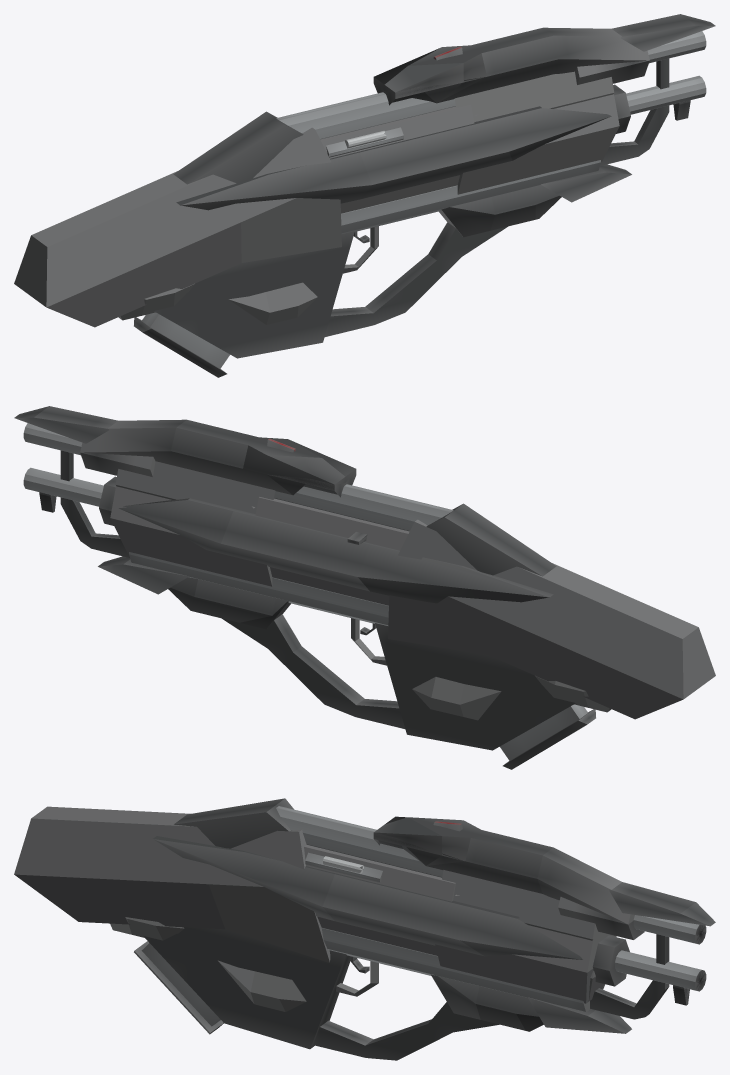
The picture shows the model from 3 angles, top to bottom: view 1: azimuth 30°, elevation 25°; view 2: azimuth 150°, elevation 25°; view 3: azimuth 330°, elevation 25°; orthographic projection.
Visible parts, largest first — view 1: cuboid, tube; view 2: cuboid, tube; view 3: cuboid, tube.
Part boxes in pixels (x1,y1,x2,y2): cuboid: (14, 14, 715, 377); tube: (276, 31, 706, 233); cuboid: (14, 406, 715, 769); tube: (23, 423, 453, 625); cuboid: (14, 798, 715, 1060); tube: (276, 806, 706, 1011).
Size of the model in its own units: 1.14 by 0.4266 by 0.1437.
1 material, 1 textured.
